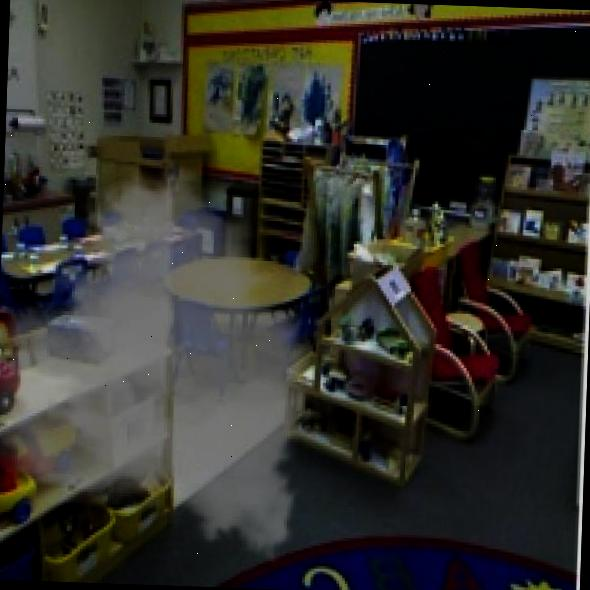smoke: (0, 144, 331, 578)
